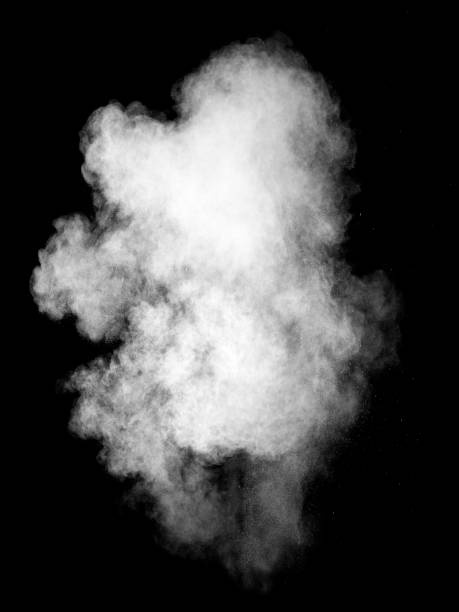smoke: (33, 41, 376, 532)
